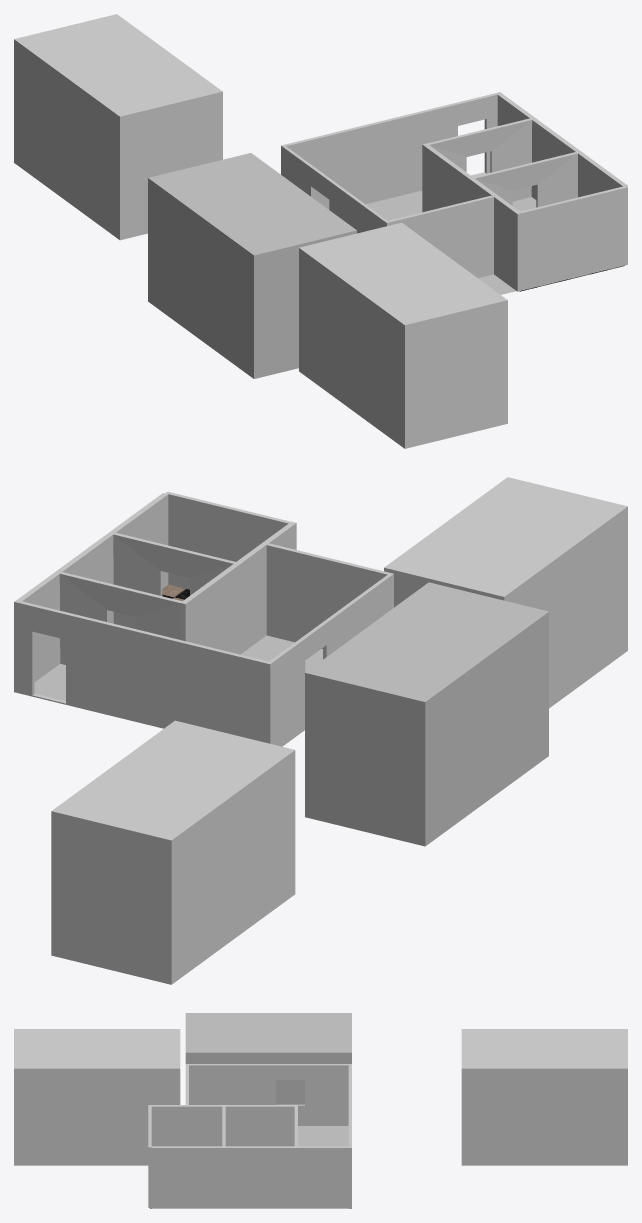
Rendered from MainScen 2.fbx.
3 renders of one model, top to bottom at view 1: azimuth 30°, elevation 25°; view 2: azimuth 150°, elevation 25°; view 3: azimuth 270°, elevation 25°, orthographic. The views are drawn at different scales.
Visible parts, largest first — view 1: SM_Wall.011, SM_Wall.010, SM_Wall.009, SM_Wall.002, SM_Wall.007, SM_Wall.003, SM_Wall.001, SM_Wall.004, SM_Wall.008, SM_Wall.006, SM_Wall, SM_FloorBase_001; view 2: SM_Wall.010, SM_Wall.009, SM_Wall.011, SM_Wall.002, SM_Wall.001, SM_Wall.003, SM_Wall, SM_Wall.007, SM_Wall.006, SM_Wall.008, SM_Wall.004, SM_FloorBase_001; view 3: SM_Wall.010, SM_Wall.011, SM_Wall.006, SM_Wall.009, SM_Wall, SM_Wall.003, SM_FloorBase_001, SM_Wall.002, SM_Wall.007.
Boxes of the visible parts, <box> form: SM_Wall.011: <box>299,222,507,448</box>; SM_Wall.010: <box>14,14,222,240</box>; SM_Wall.009: <box>148,153,356,378</box>; SM_Wall.002: <box>281,92,501,209</box>; SM_Wall.007: <box>520,186,627,290</box>; SM_Wall.003: <box>422,143,521,291</box>; SM_Wall.001: <box>384,195,493,277</box>; SM_Wall.004: <box>427,118,532,201</box>; SM_Wall.008: <box>473,152,577,207</box>; SM_Wall.006: <box>497,93,627,199</box>; SM_Wall: <box>283,146,387,233</box>; SM_FloorBase_001: <box>366,190,536,294</box>; SM_Wall.010: <box>51,720,295,984</box>; SM_Wall.009: <box>305,582,548,846</box>; SM_Wall.011: <box>384,477,627,708</box>; SM_Wall.002: <box>14,600,272,744</box>; SM_Wall.001: <box>266,543,393,648</box>; SM_Wall.003: <box>180,521,296,654</box>; SM_Wall: <box>269,574,391,746</box>; SM_Wall.007: <box>165,491,290,589</box>; SM_Wall.006: <box>17,493,168,681</box>; SM_Wall.008: <box>113,533,235,628</box>; SM_Wall.004: <box>59,572,181,664</box>; SM_FloorBase_001: <box>34,635,322,700</box>; SM_Wall.010: <box>461,1029,627,1165</box>; SM_Wall.011: <box>14,1029,180,1165</box>; SM_Wall.006: <box>151,1146,348,1208</box>; SM_Wall.009: <box>185,1013,351,1104</box>; SM_Wall: <box>189,1064,348,1125</box>; SM_Wall.003: <box>148,1105,297,1146</box>; SM_FloorBase_001: <box>298,1126,348,1146</box>; SM_Wall.002: <box>348,1064,351,1208</box>; SM_Wall.007: <box>148,1106,151,1207</box>.
Bounding box in the file's own units: 1636 × 550 × 3144.
